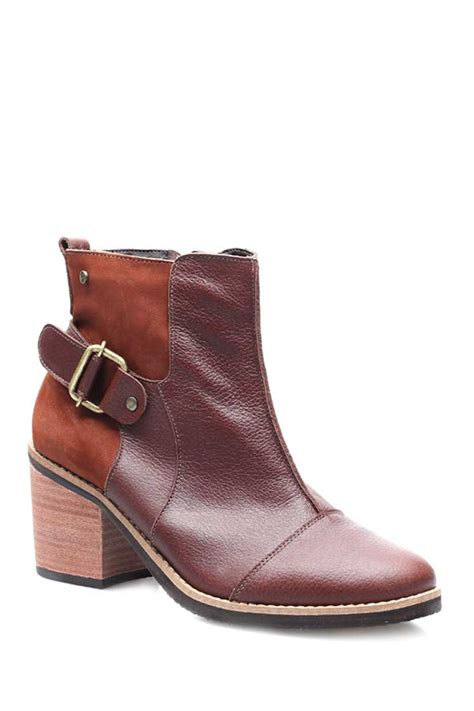cuero: (168, 252, 436, 607)
